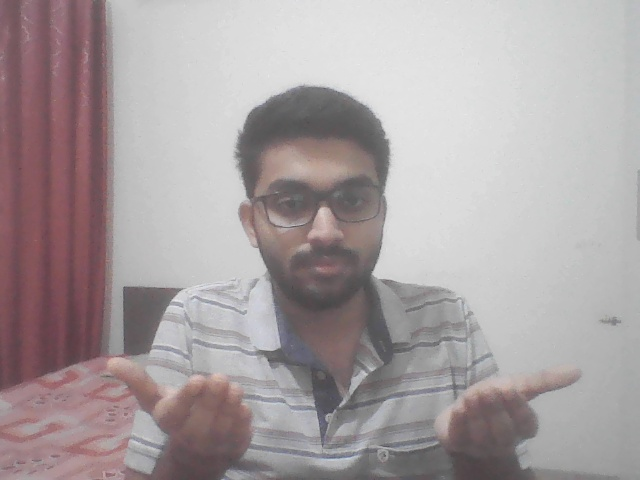what: (85, 325, 604, 467)
